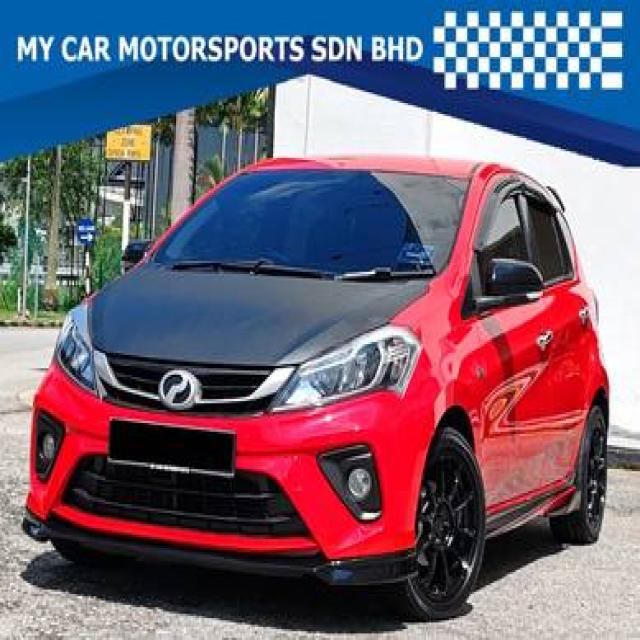PeroduaMyvi: (20, 149, 610, 620)
